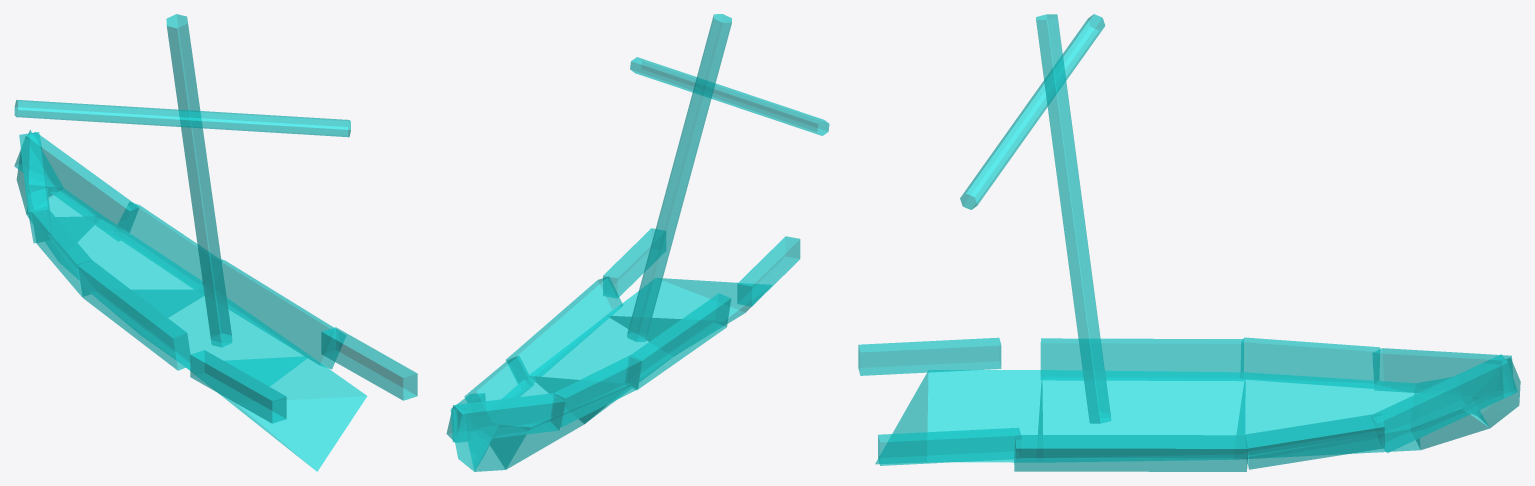
File: SM_Prop_Boat_Destroyed_01_Collision.fbx
The picture shows the model from 3 angles, left to right: view 1: azimuth 30°, elevation 25°; view 2: azimuth 150°, elevation 25°; view 3: azimuth 270°, elevation 25°; orthographic projection. The views are drawn at different scales.
Visible parts, largest first — view 1: SM_Prop_Boat_Destroyed_01_Collision; view 2: SM_Prop_Boat_Destroyed_01_Collision; view 3: SM_Prop_Boat_Destroyed_01_Collision.
Part boxes in pixels (x1,y1,x2,y2): SM_Prop_Boat_Destroyed_01_Collision: [14, 14, 417, 471]; SM_Prop_Boat_Destroyed_01_Collision: [446, 14, 829, 471]; SM_Prop_Boat_Destroyed_01_Collision: [858, 14, 1520, 471].
Size of the model in its own units: 833 by 1080 by 1541.
